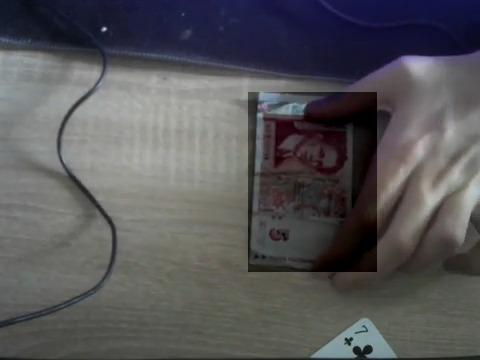5leva: (248, 92, 377, 272)
